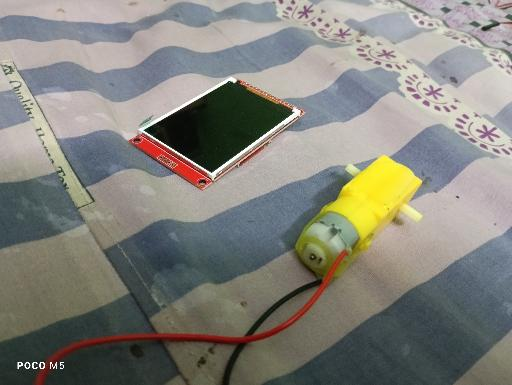Display: (128, 76, 306, 191)
Motor: (295, 155, 422, 281)
